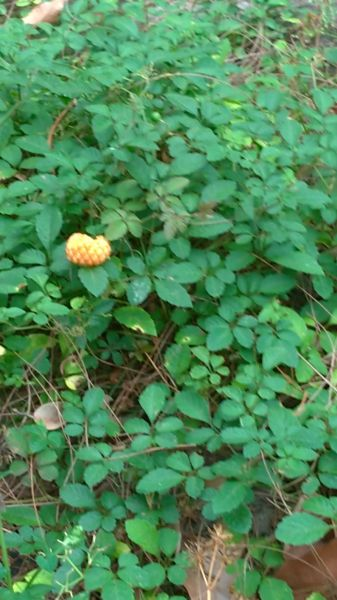eggs: (62, 229, 115, 268)
